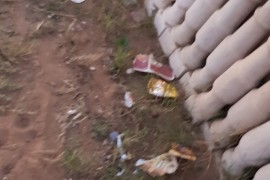trash: (111, 39, 200, 176)
